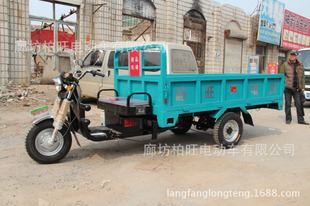tricycle: (24, 47, 287, 158)
